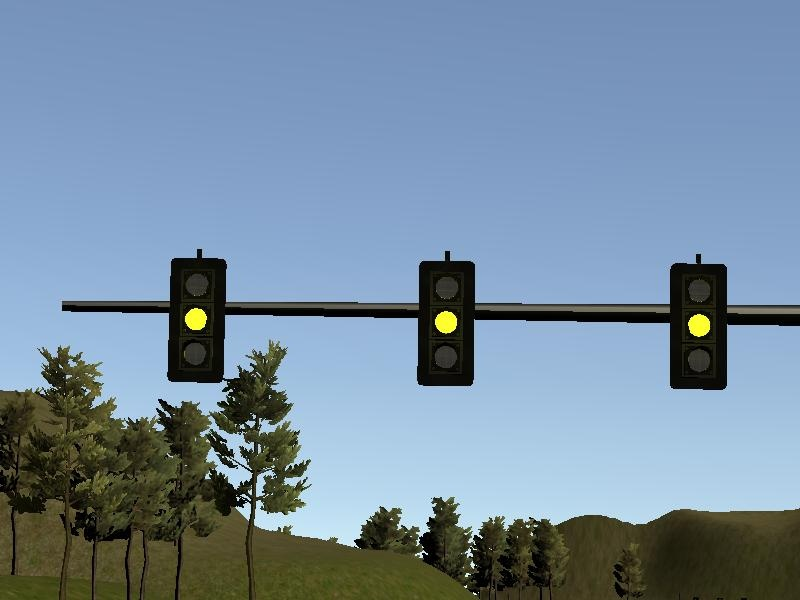YELLOW: (167, 257, 229, 384), (414, 258, 476, 385), (666, 262, 728, 389)
